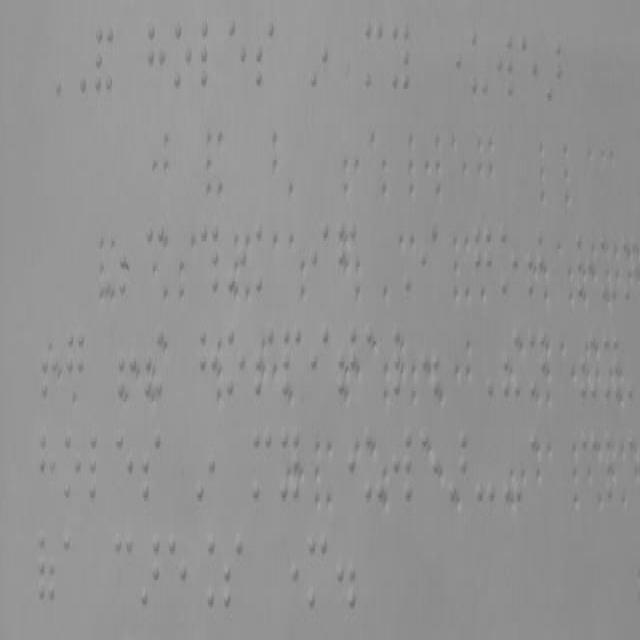braiile: (222, 534, 244, 612), (310, 219, 330, 297), (62, 424, 82, 500), (254, 19, 276, 88), (392, 427, 412, 502), (146, 23, 166, 97), (499, 224, 519, 296), (469, 29, 489, 100), (494, 29, 514, 100), (518, 29, 538, 100), (362, 22, 383, 89), (167, 536, 187, 606), (142, 430, 162, 499), (255, 220, 273, 296), (116, 427, 134, 502), (228, 18, 246, 92), (420, 221, 438, 295), (473, 224, 492, 292), (174, 20, 192, 91), (90, 431, 108, 502), (62, 531, 80, 602), (389, 22, 408, 89), (201, 19, 219, 88), (283, 323, 301, 392), (38, 428, 56, 497), (114, 530, 132, 599), (67, 328, 85, 396), (227, 326, 245, 394), (310, 326, 328, 394), (528, 330, 544, 394)
